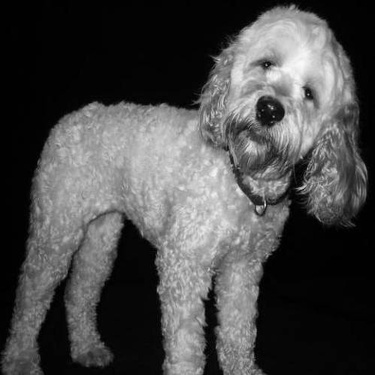dog: (2, 1, 371, 372)
